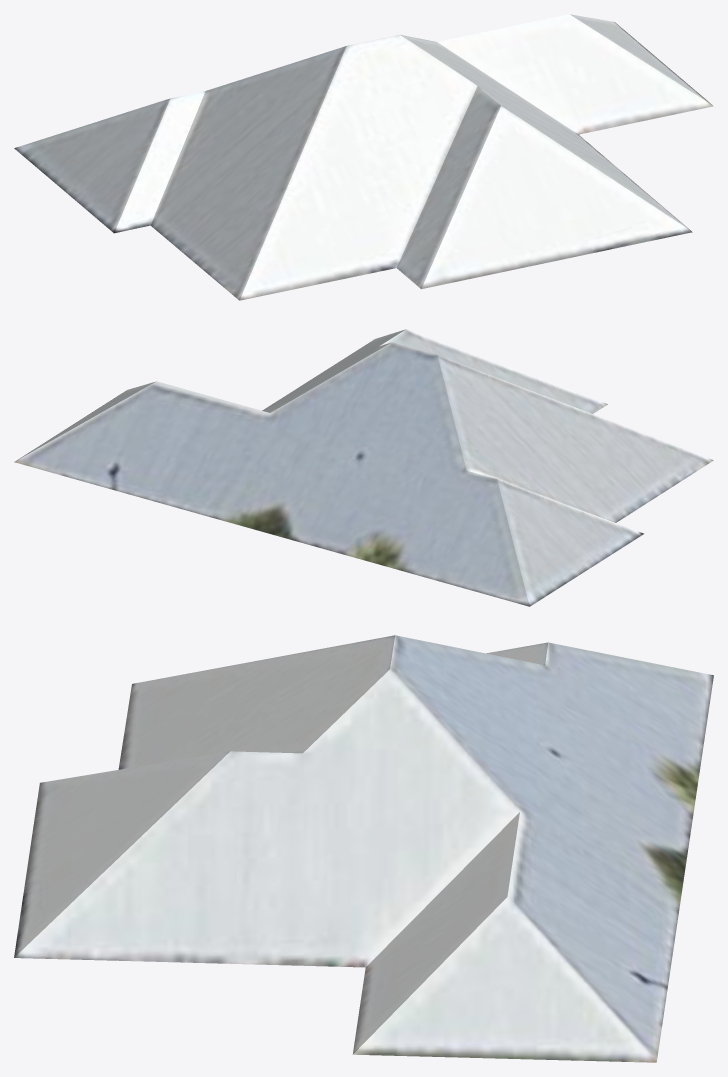
The model's file is CG10_500_048069_0008_roof.obj.
3 views of the same model, one above another, from view 1: azimuth 30°, elevation 25°; view 2: azimuth 150°, elevation 25°; view 3: azimuth 270°, elevation 25° (orthographic). The views are drawn at different scales.
Visible parts, largest first — view 1: CG10_500_048069_0008_roof; view 2: CG10_500_048069_0008_roof; view 3: CG10_500_048069_0008_roof.
Boxes of the visible parts, x1=… form: CG10_500_048069_0008_roof: x1=14, y1=14, x2=713, y2=300; CG10_500_048069_0008_roof: x1=14, y1=329, x2=713, y2=606; CG10_500_048069_0008_roof: x1=14, y1=635, x2=713, y2=1062.
Size of the model in its own units: 321 by 70 by 240.
1 material, 1 textured.
